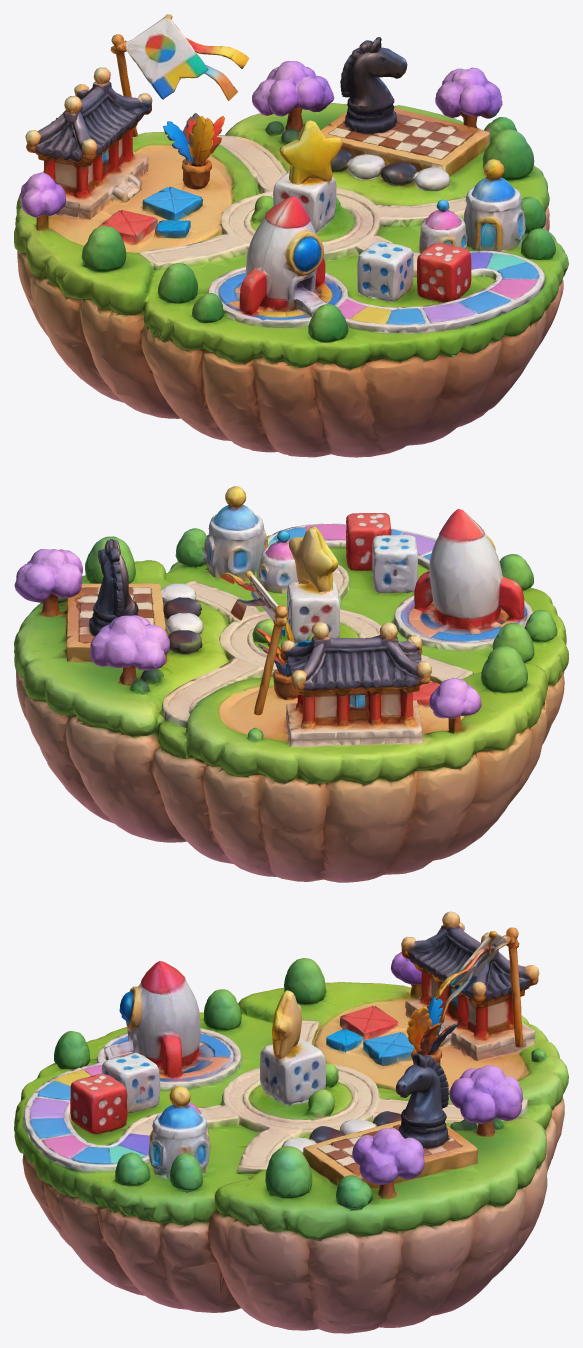
File: star_play.glb
3 views of the same model, one above another, from view 1: azimuth 30°, elevation 25°; view 2: azimuth 150°, elevation 25°; view 3: azimuth 270°, elevation 25° (orthographic).
Bounding box in the file's own units: 0.9968 × 0.6141 × 1.
1 material, 1 textured.
